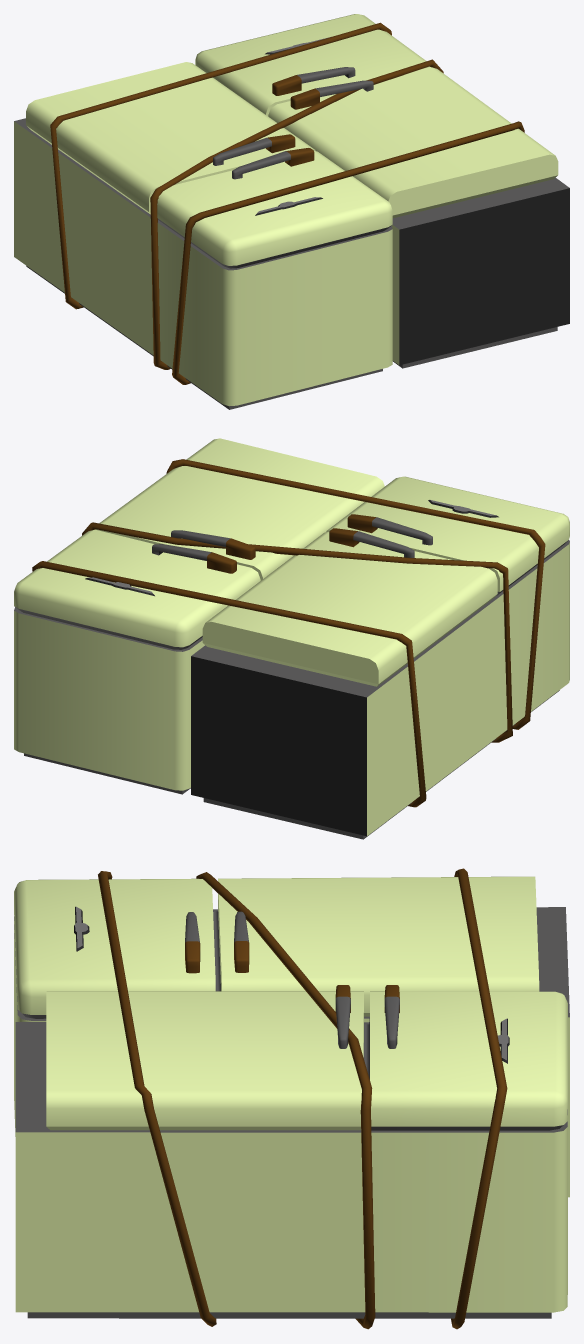
Rendered from fridge.glb.
The picture shows the model from 3 angles, top to bottom: view 1: azimuth 30°, elevation 25°; view 2: azimuth 150°, elevation 25°; view 3: azimuth 270°, elevation 25°; orthographic projection. The views are drawn at different scales.
Visible parts, largest first — view 1: Fridge; view 2: Fridge; view 3: Fridge.
Part boxes in pixels (x1=…): Fridge: x1=14, y1=14, x2=569, y2=409; Fridge: x1=14, y1=438, x2=569, y2=839; Fridge: x1=14, y1=868, x2=569, y2=1329.
Bounding box in the file's own units: 2.1 × 1.11 × 2.14.
Materials: 1 (1 with a texture image).
